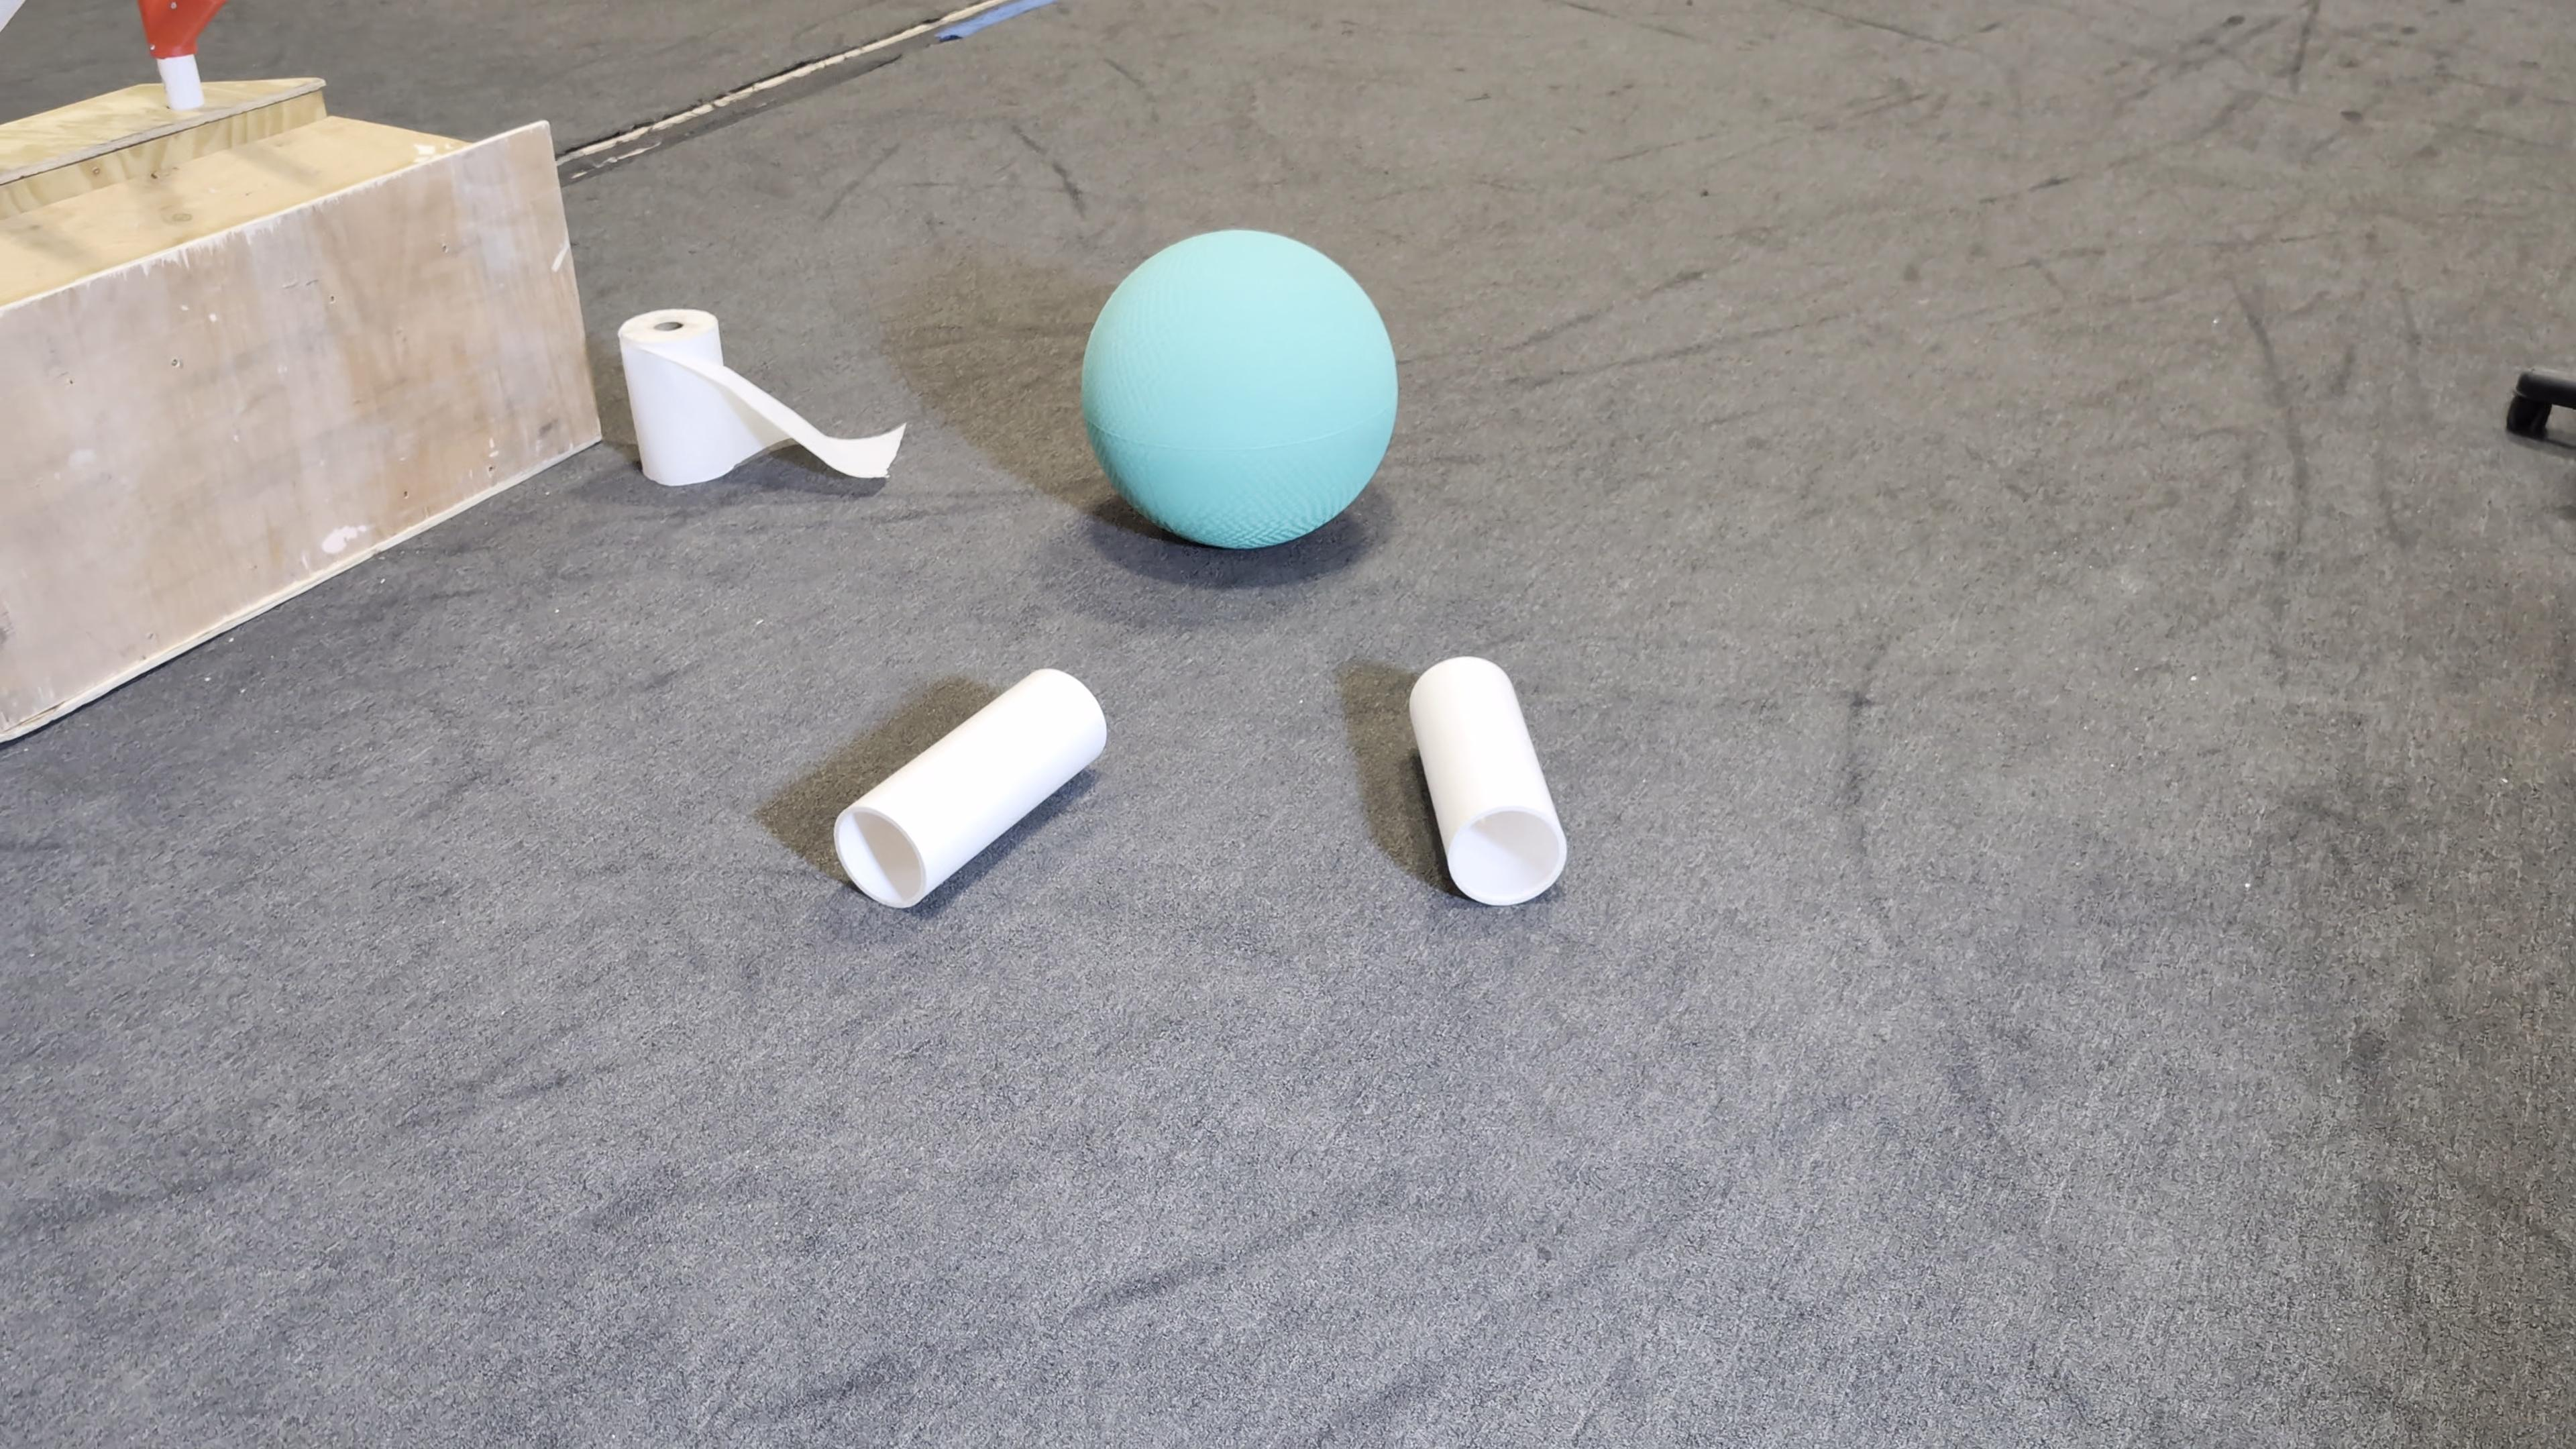algae: (1079, 226, 1396, 548)
coral: (830, 663, 1108, 908), (1407, 653, 1569, 908)
